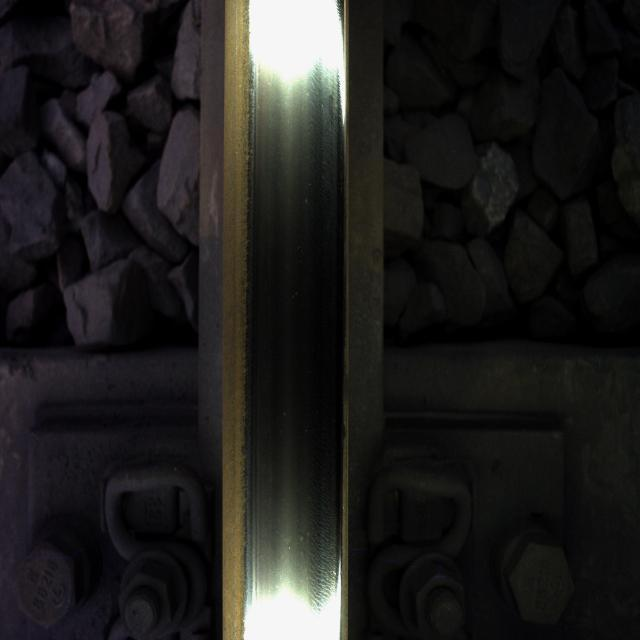break: (258, 61, 340, 564)
